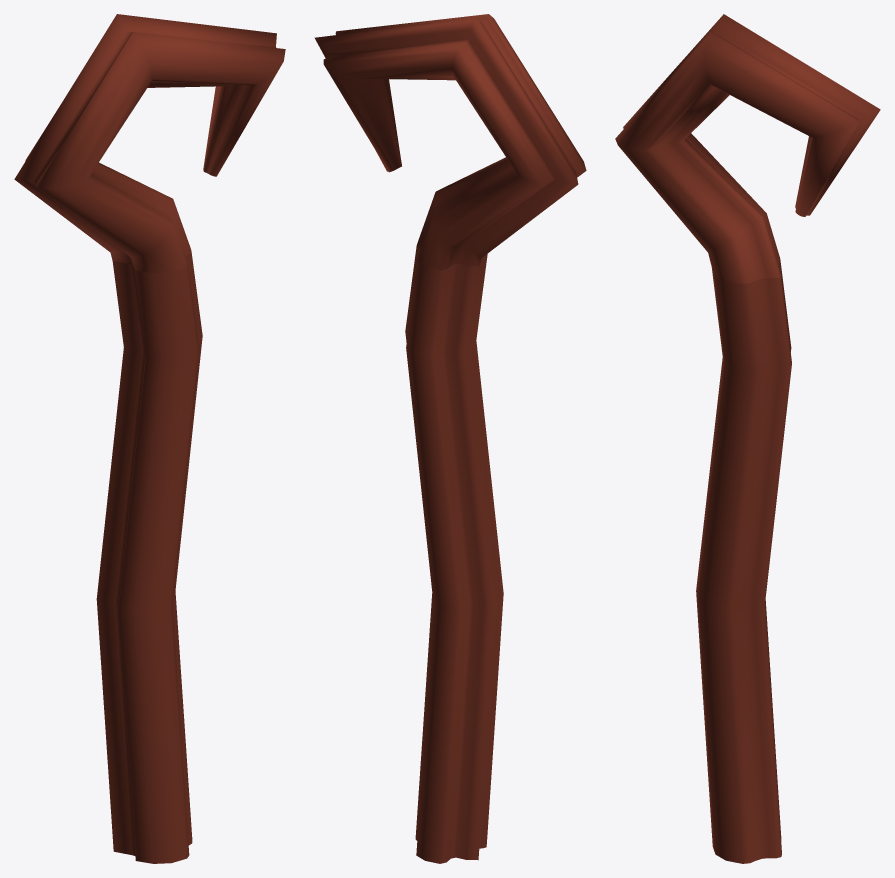
File: roothook.fbx
The picture shows the model from 3 angles, left to right: view 1: azimuth 30°, elevation 25°; view 2: azimuth 150°, elevation 25°; view 3: azimuth 330°, elevation 25°; orthographic projection. The views are drawn at different scales.
Parts seen in each view (by area): view 1: raizrook, raizhookgancho; view 2: raizrook, raizhookgancho; view 3: raizrook, raizhookgancho.
Boxes of the visible parts, bbox=[...] form: raizrook: bbox=[96, 251, 202, 863]; raizhookgancho: bbox=[14, 14, 285, 273]; raizrook: bbox=[405, 246, 503, 863]; raizhookgancho: bbox=[314, 14, 586, 270]; raizrook: bbox=[696, 259, 791, 863]; raizhookgancho: bbox=[615, 14, 880, 283].
Size of the model in its own units: 4.37 by 13.31 by 1.16.
